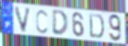6: (72, 12, 86, 38)
9: (108, 14, 123, 43)
C: (35, 9, 49, 35)
D: (51, 10, 70, 38), (88, 12, 106, 40)
V: (14, 6, 33, 34)
